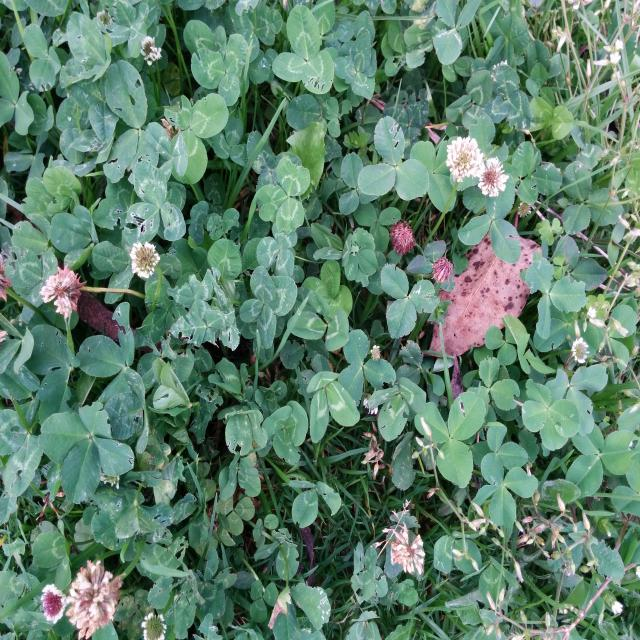Four Leaf Clover: (39, 402, 135, 504)
